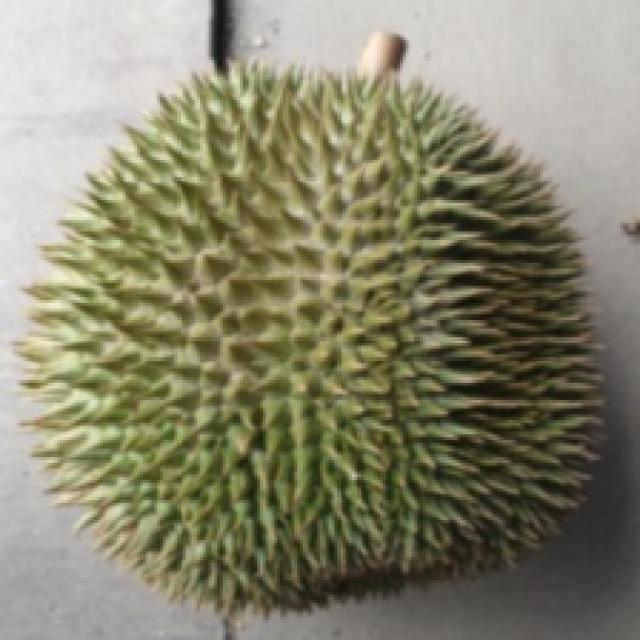d101: (43, 89, 620, 595)
